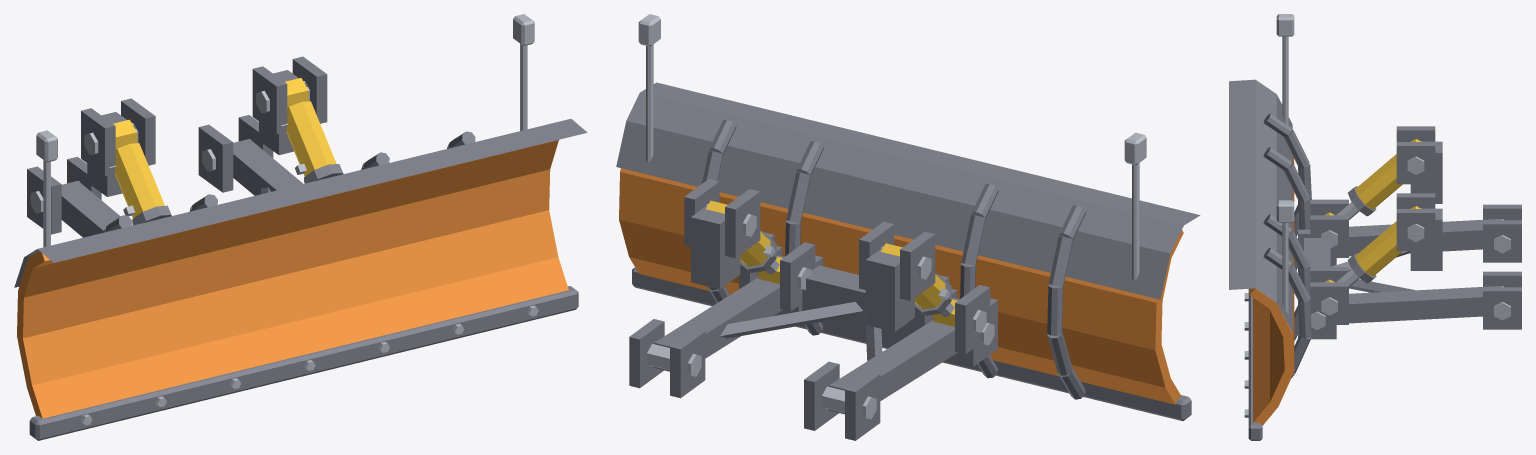
The model's file is PlowAttachment.fbx.
The picture shows the model from 3 angles, left to right: view 1: azimuth 30°, elevation 25°; view 2: azimuth 150°, elevation 25°; view 3: azimuth 270°, elevation 25°; orthographic projection. The views are drawn at different scales.
Visible parts, largest first — view 1: blade; view 2: blade; view 3: blade.
Part boxes in pixels (bbox=[...]): blade: bbox=[14, 14, 587, 440]; blade: bbox=[616, 14, 1200, 440]; blade: bbox=[1229, 14, 1521, 440].
Bounding box in the file's own units: 2.85 × 1.42 × 1.66.
